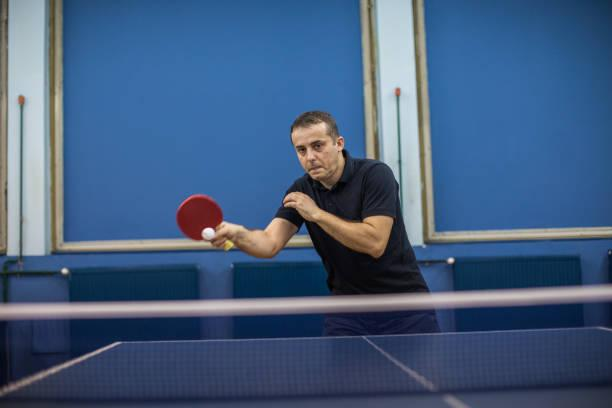ball_pingpong: (200, 226, 214, 241)
